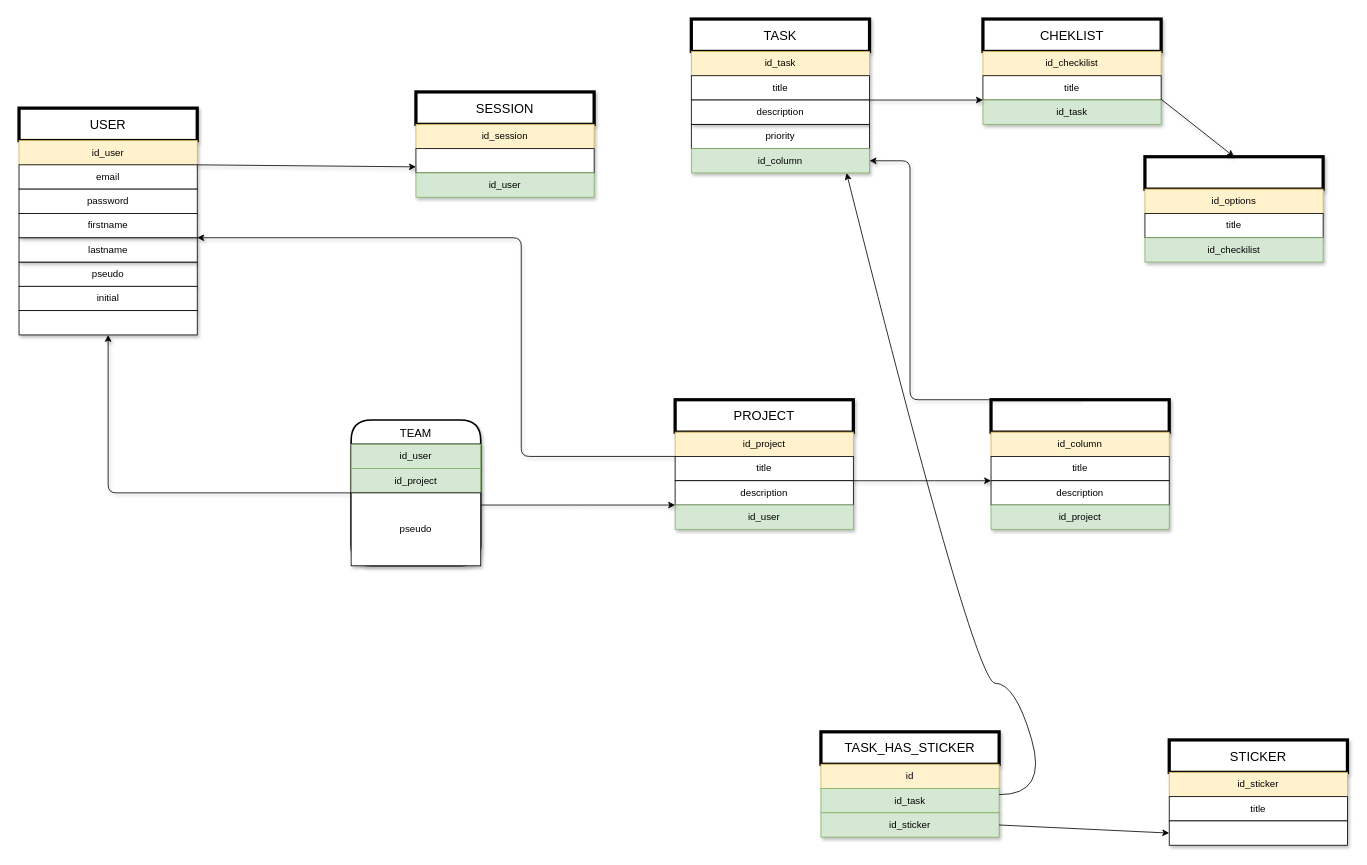
This 1367x865 diagram has some shape labels left out. The centre of each missing label's shape, as x and y in pixels:
color: pixel 1258 834
COLUMN: pixel 1080 416
image: pixel 108 324
OPTIONS: pixel 1234 173
token: pixel 505 162
